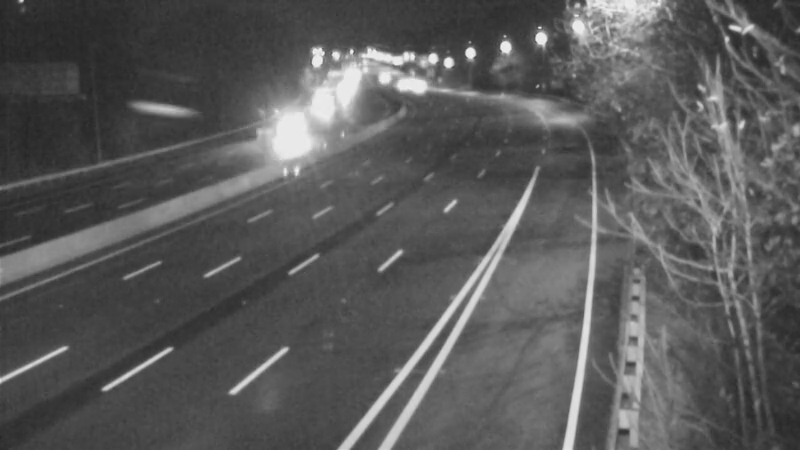vehicle: (360, 52, 410, 102), (391, 64, 441, 114), (259, 111, 309, 161), (297, 80, 347, 130), (319, 69, 369, 119)
